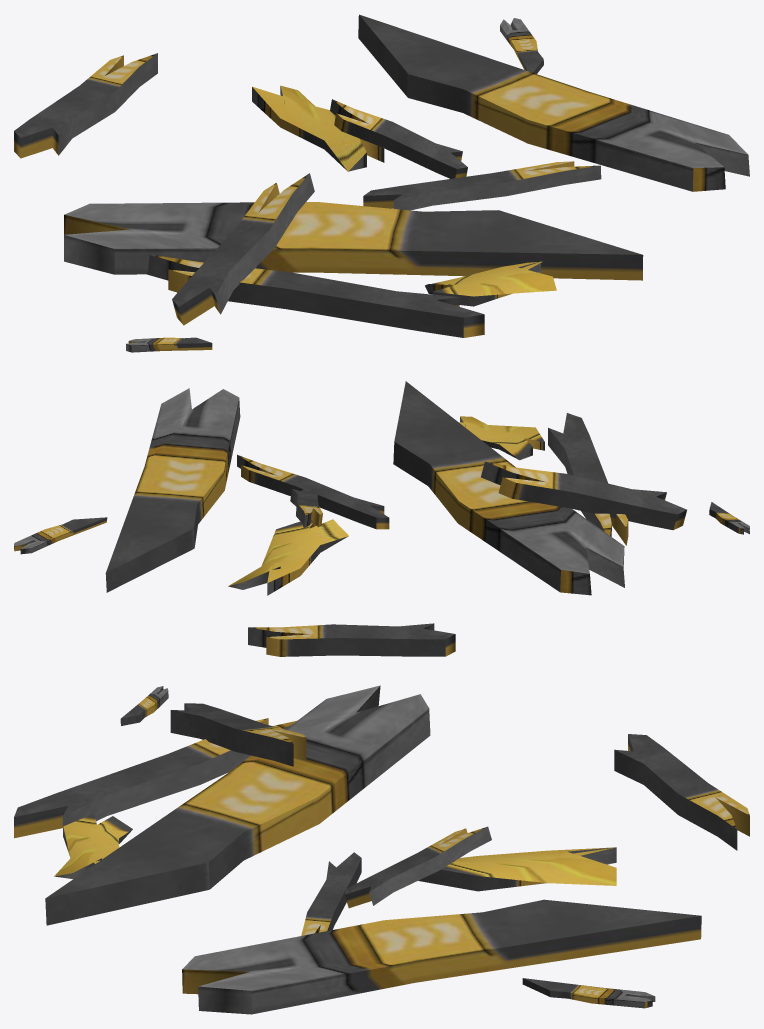
File: splinters.gltf
3 views of the same model, one above another, from view 1: azimuth 30°, elevation 25°; view 2: azimuth 150°, elevation 25°; view 3: azimuth 270°, elevation 25° (orthographic). The views are drawn at different scales.
Parts seen in each view (by area): view 1: pCube18; view 2: pCube18; view 3: pCube18.
Part boxes in pixels (x1,y1,x2,y2): pCube18: (14, 14, 749, 352); pCube18: (14, 381, 749, 656); pCube18: (14, 685, 749, 1014).
Bounding box in the file's own units: 2.91 × 0.3374 × 2.78.
Materials: 1 (1 with a texture image).
